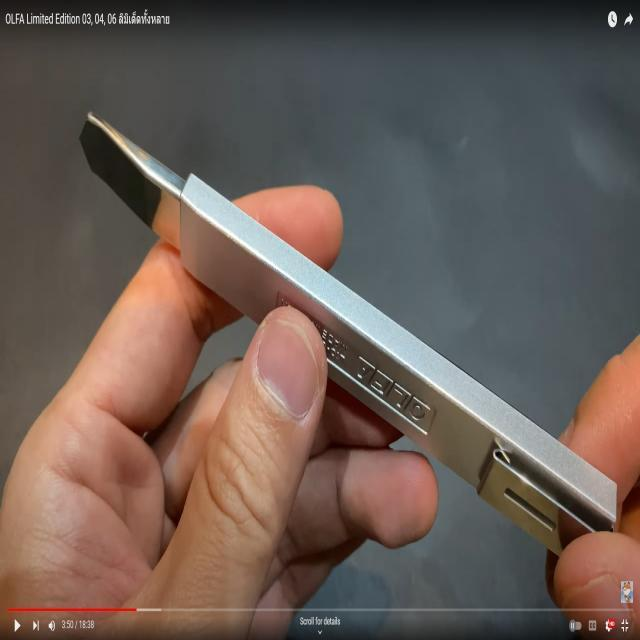cutter: (0, 63, 640, 640)
